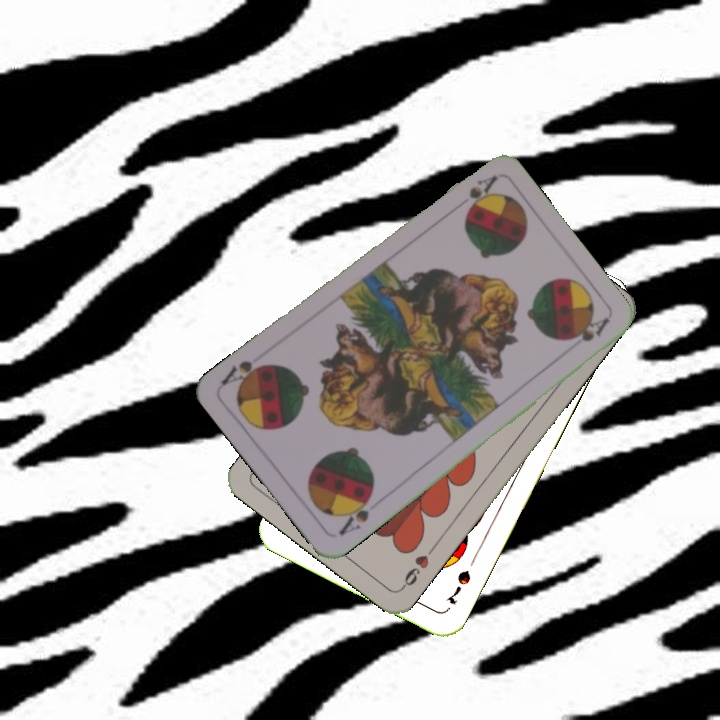H9: (397, 542, 439, 592)
S7: (441, 566, 473, 607)
SA: (334, 489, 376, 539), (462, 172, 499, 214)
